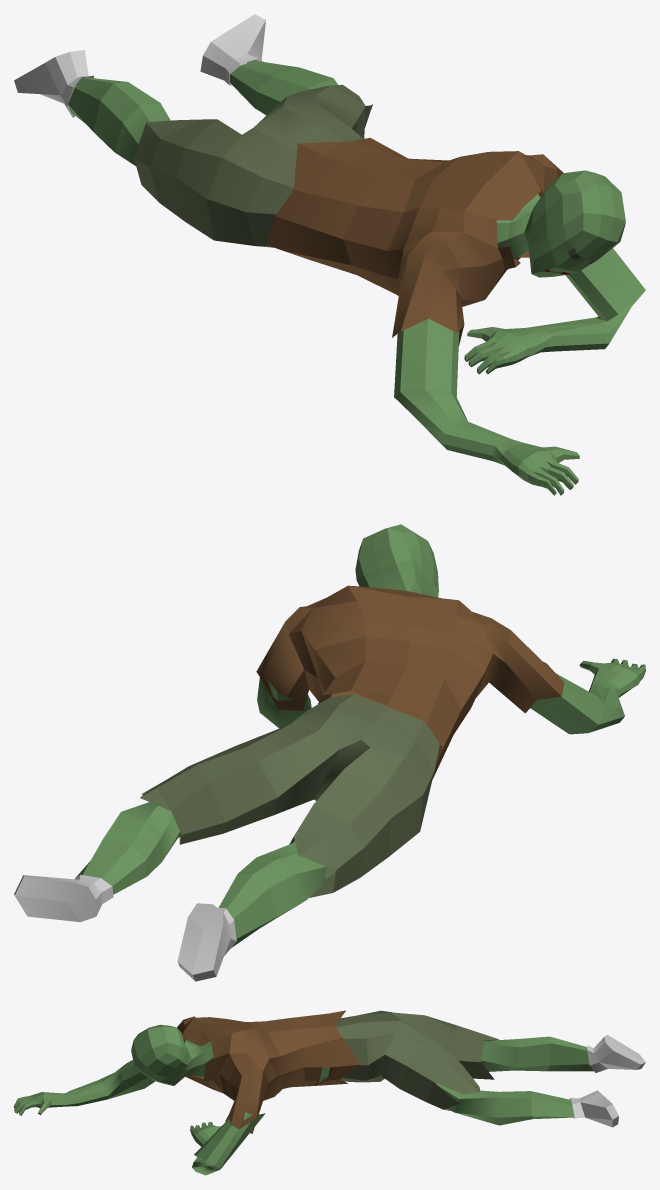
File: ZombieCrawl(86).obj
3 views of the same model, one above another, from view 1: azimuth 30°, elevation 25°; view 2: azimuth 150°, elevation 25°; view 3: azimuth 270°, elevation 25° (orthographic). The views are drawn at different scales.
Visible parts, largest first — view 1: Object001; view 2: Object001; view 3: Object001.
Part boxes in pixels (x1,y1,x2,y2): Object001: (14, 14, 645, 495); Object001: (14, 524, 645, 981); Object001: (14, 1010, 645, 1175).
Size of the model in its own units: 25.81 by 17.32 by 73.59.
